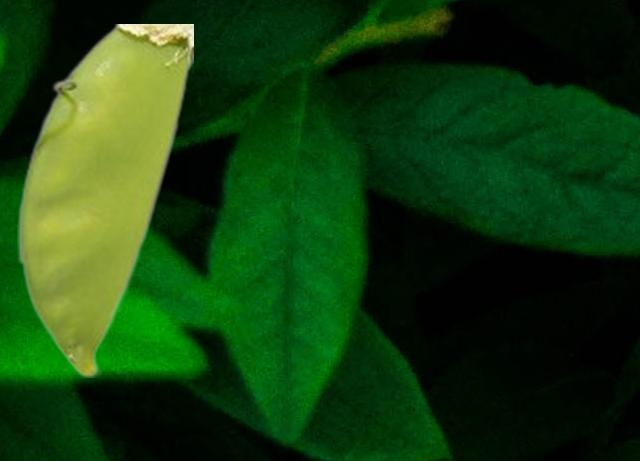pea: (17, 24, 192, 376)
